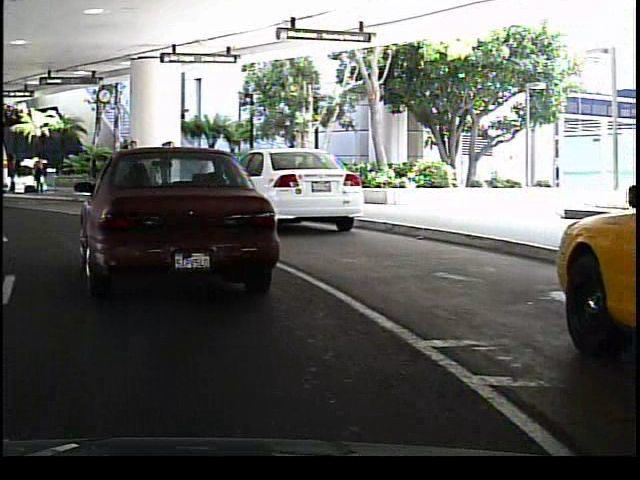person: (119, 136, 142, 200), (196, 143, 221, 194), (156, 137, 177, 196), (29, 153, 54, 197)
